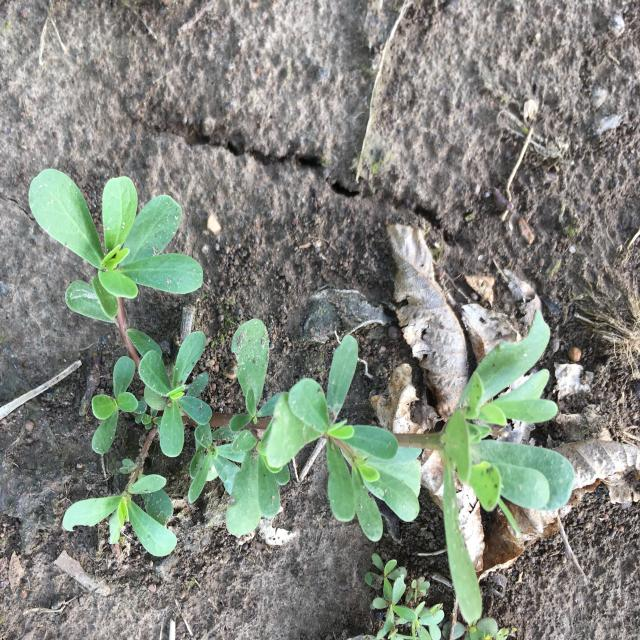Purslane: (29, 168, 575, 623), (365, 553, 517, 640)
